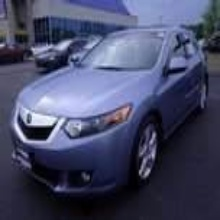no damage: (10, 27, 209, 201), (34, 38, 85, 66)
